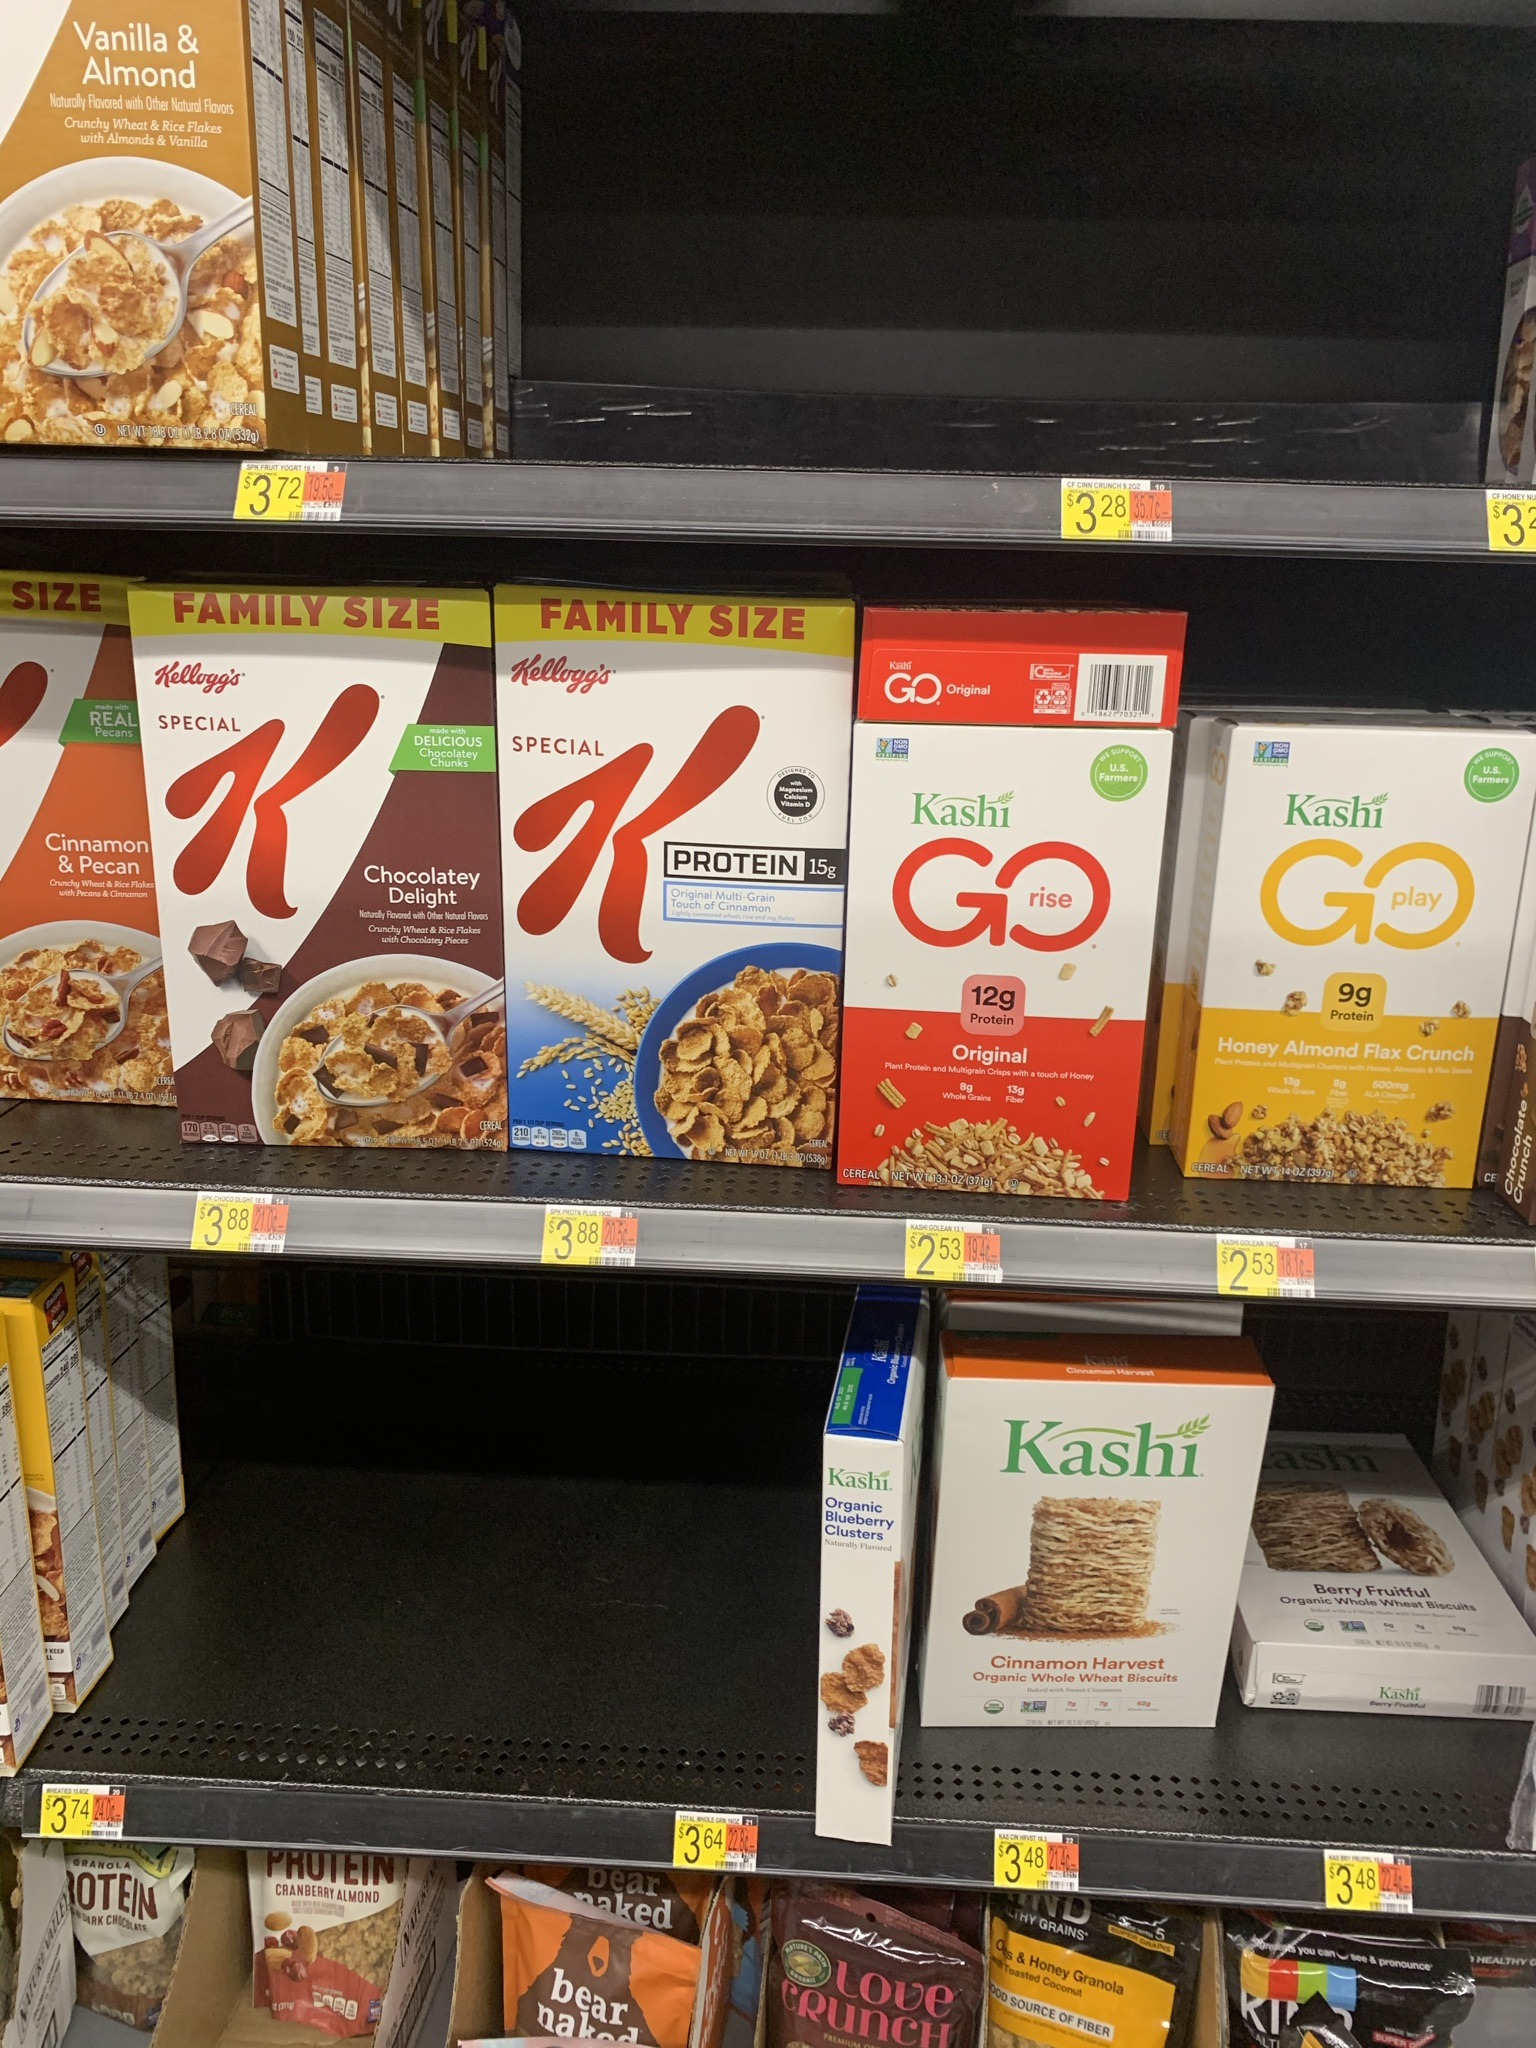box: (165, 605, 497, 1140), (531, 613, 834, 1153), (865, 660, 1129, 1188), (1223, 739, 1475, 1184), (2, 10, 244, 448), (970, 1379, 1210, 1725), (820, 1458, 910, 1840)
